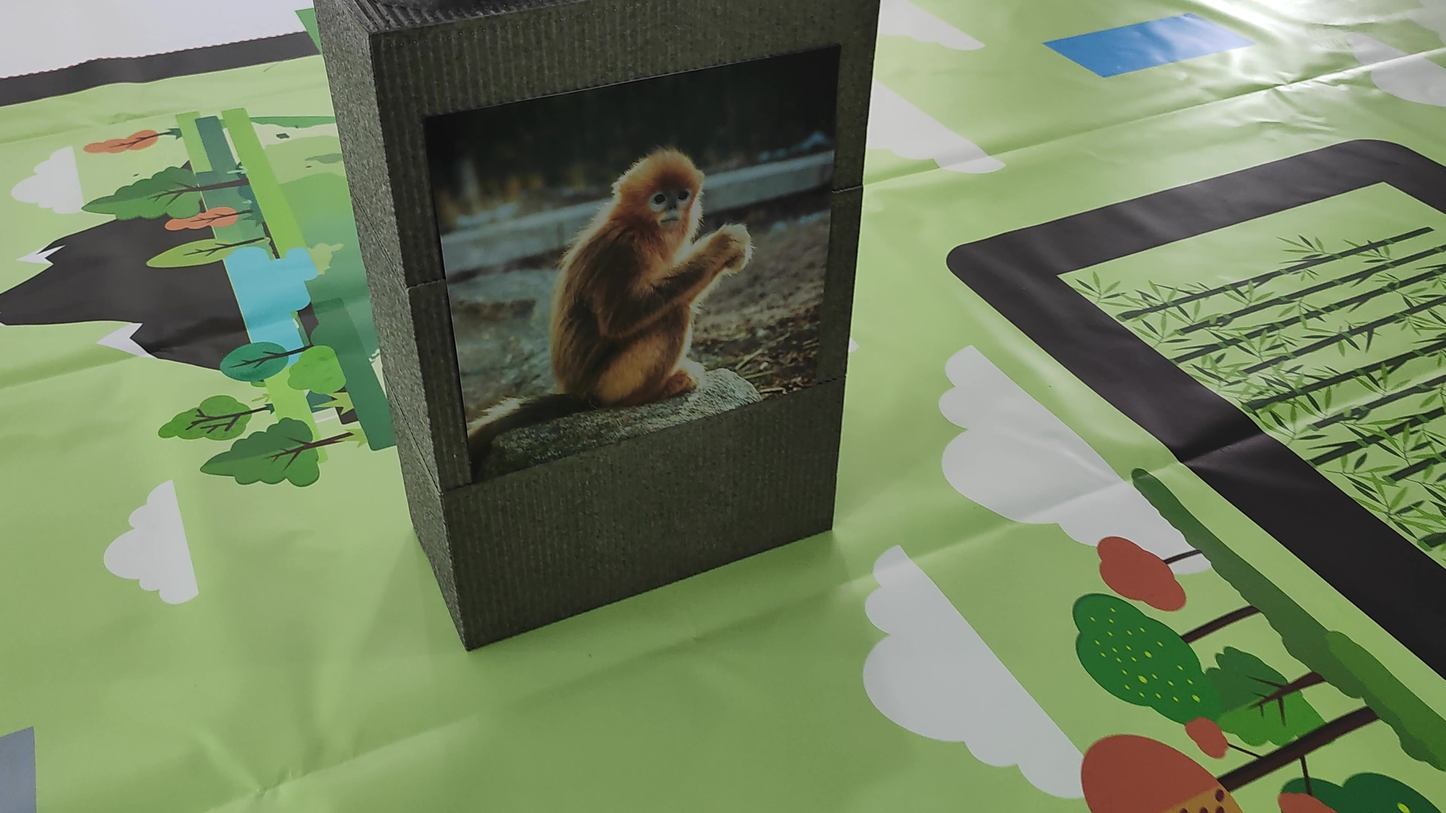monkey: (435, 137, 765, 470)
